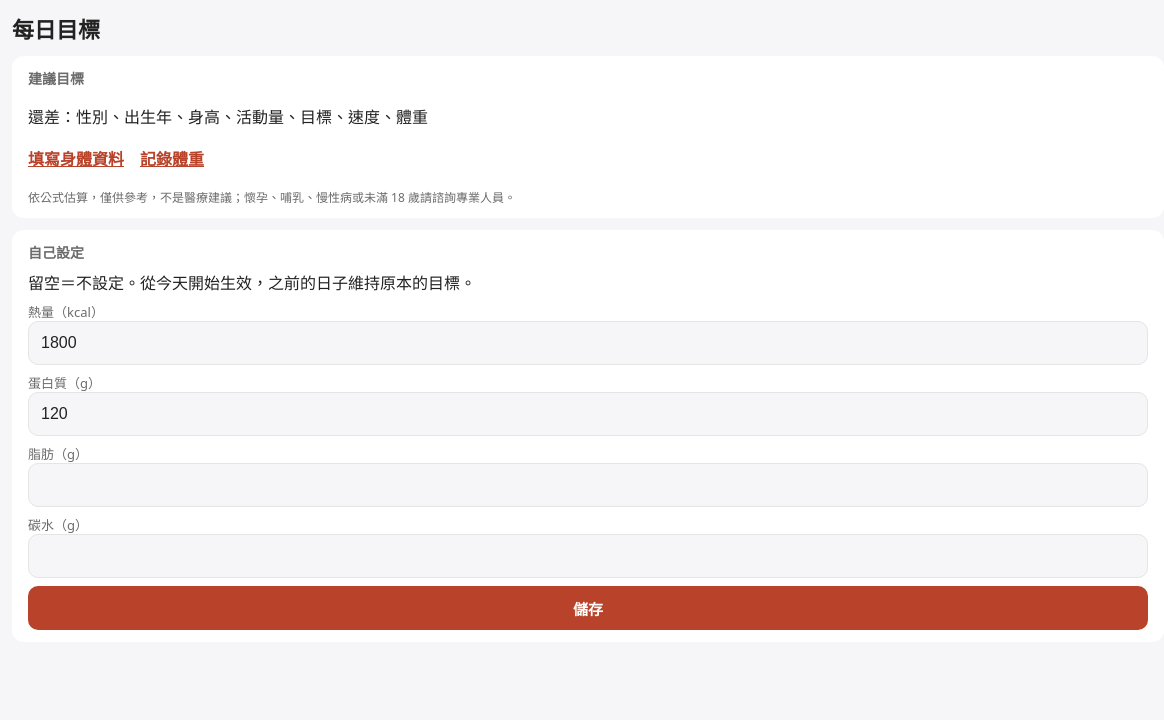
Test case: /me/targets › 前端檢查：熱量 20001 → 「熱量不能超過 20000」、不送出
Replace the text in the field labelled "熱量（kcal）" with "20001": (588, 343) [28, 321, 1148, 365]
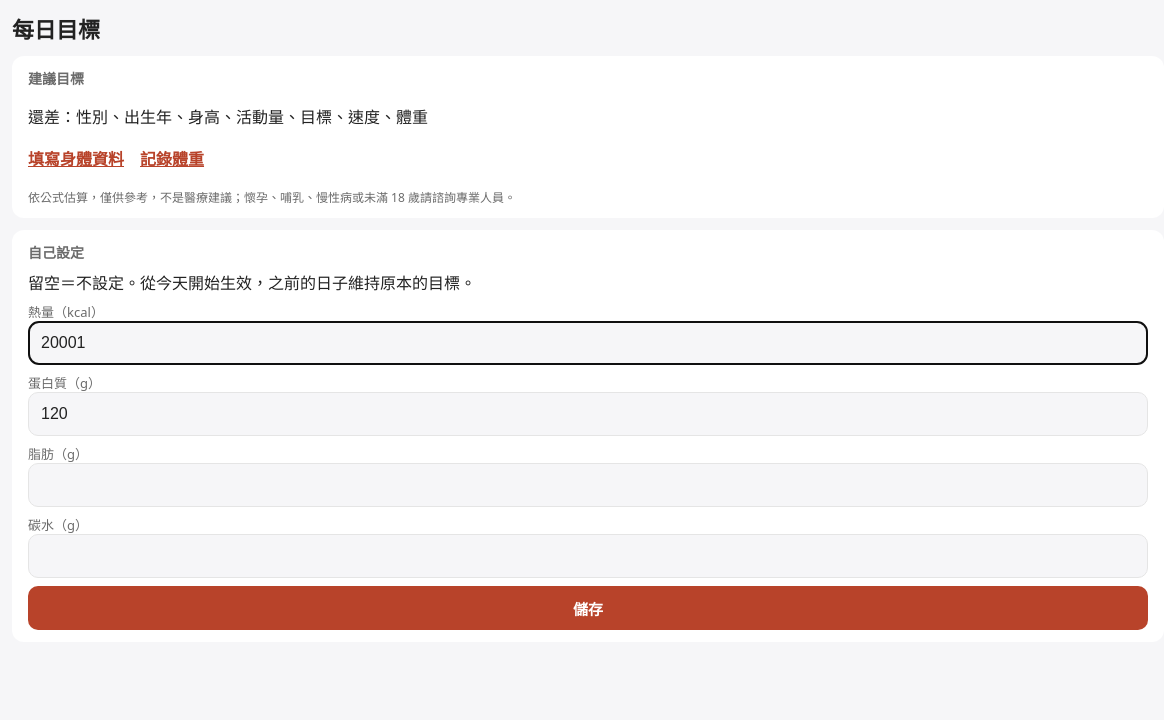
Click the button "儲存": (588, 608) [28, 586, 1148, 630]
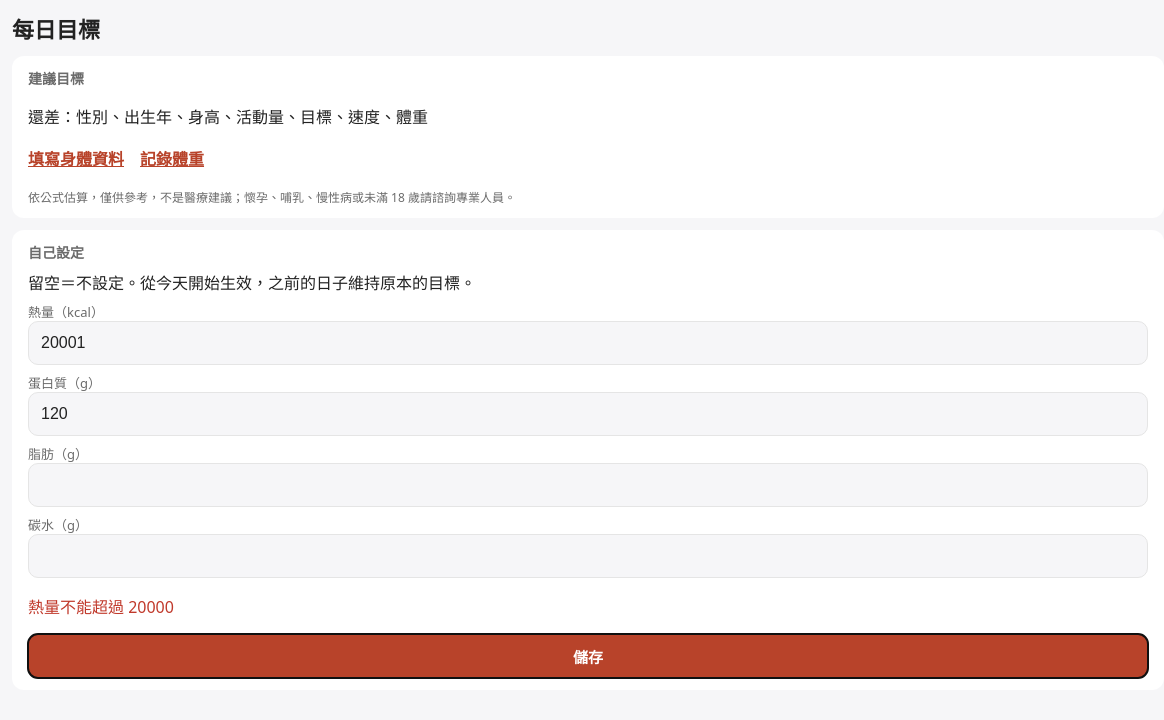
Result: the message reads "熱量不能超過 20000" at [28, 596, 174, 618]
